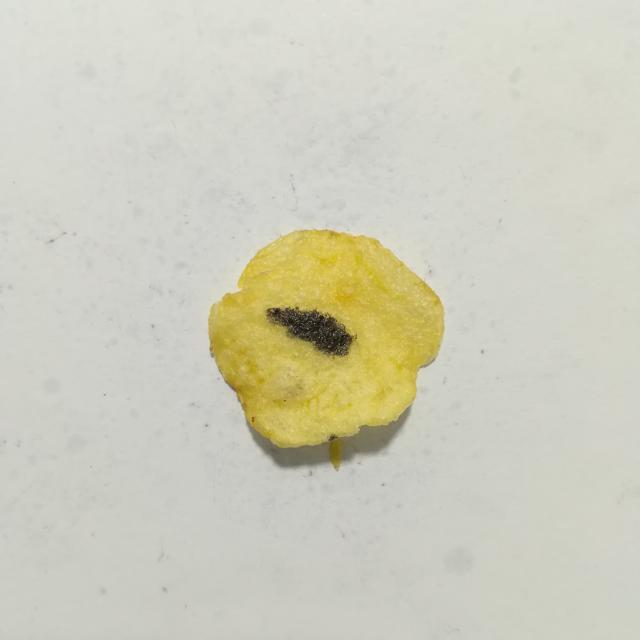chip: (208, 230, 444, 447)
damaged: (267, 307, 353, 356), (328, 435, 338, 441)
semi-damaged: (252, 417, 255, 423)
